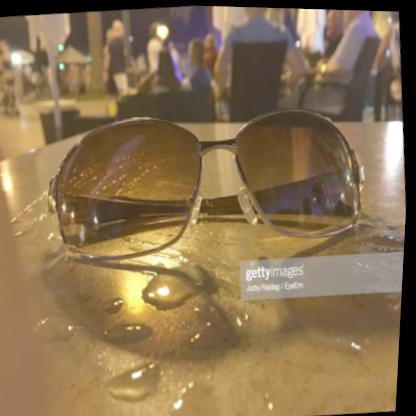Spectacles: (41, 95, 378, 270)
